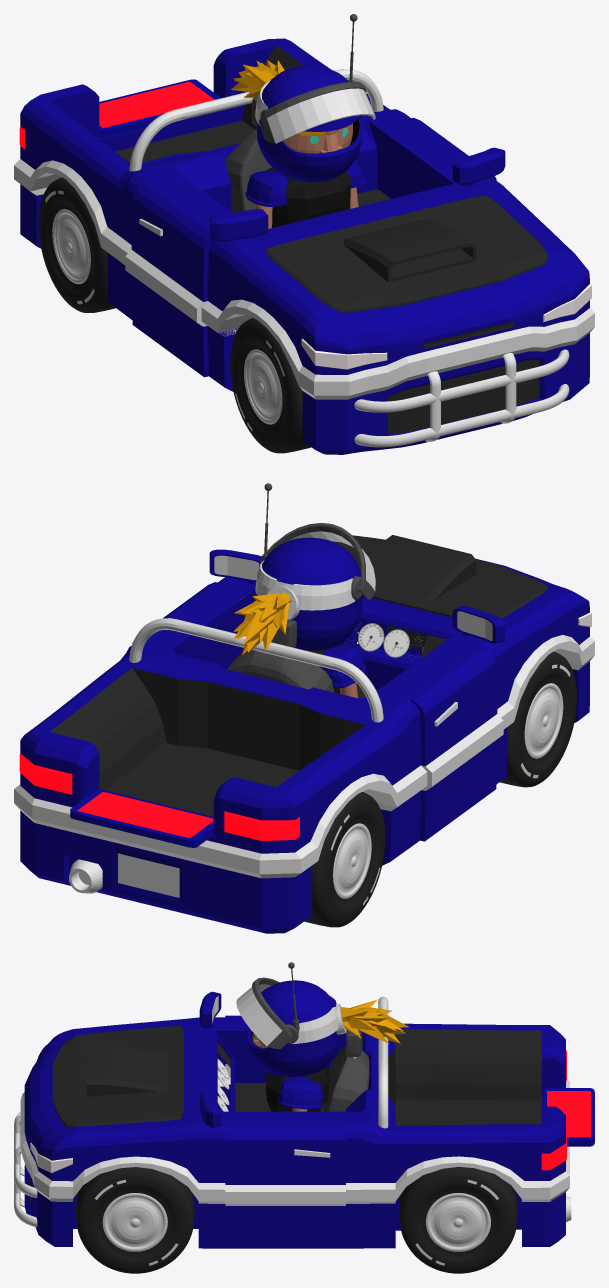
The model's file is carlita segundo coche.fbx.
3 renders of one model, top to bottom at view 1: azimuth 30°, elevation 25°; view 2: azimuth 150°, elevation 25°; view 3: azimuth 270°, elevation 25°, orthographic. The views are drawn at different scales.
Parts seen in each view (by area): view 1: Coche.002, WFR.003, Casco.004, WRR.003, Cuerpo Carlita.002, Visor.005, Cabeza Carlita.002, Visor.004; view 2: Coche.002, Casco.004, WRR.003, WFR.003, Visor.004, Cuerpo Carlita.002; view 3: Coche.002, WRL.003, WFL.003, Casco.004, Cuerpo Carlita.002, Visor.005.
Part boxes in pixels (bbox=[...]): Coche.002: bbox=[14, 38, 594, 454]; WFR.003: bbox=[230, 318, 311, 453]; Casco.004: bbox=[231, 14, 362, 182]; WRR.003: bbox=[38, 177, 115, 312]; Cuerpo Carlita.002: bbox=[245, 160, 366, 228]; Visor.005: bbox=[266, 81, 375, 142]; Cabeza Carlita.002: bbox=[283, 123, 352, 153]; Visor.004: bbox=[259, 87, 375, 143]; Coche.002: bbox=[14, 535, 594, 933]; Casco.004: bbox=[233, 483, 362, 654]; WRR.003: bbox=[304, 792, 385, 927]; WFR.003: bbox=[500, 651, 576, 787]; Visor.004: bbox=[259, 524, 375, 600]; Cuerpo Carlita.002: bbox=[305, 644, 366, 698]; Coche.002: bbox=[14, 991, 594, 1248]; WRL.003: bbox=[399, 1167, 517, 1273]; WFL.003: bbox=[76, 1167, 194, 1273]; Casco.004: bbox=[246, 962, 409, 1076]; Cuerpo Carlita.002: bbox=[266, 1067, 329, 1111]; Visor.005: bbox=[236, 977, 292, 1048].
Bounding box in the file's own units: 119 × 120 × 231.
28 materials, 1 textured.
